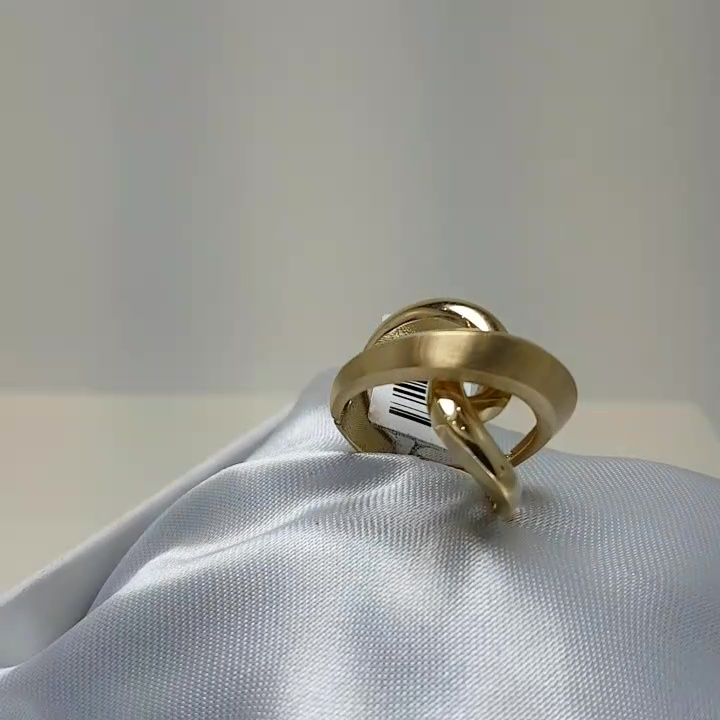Ring 3: (323, 274, 597, 521)
